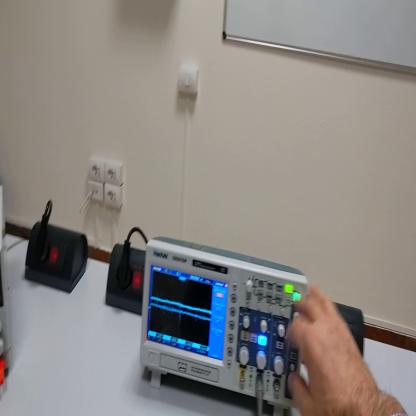hand: (286, 287, 372, 415)
oscilloscope: (142, 235, 312, 416)
power supply: (2, 178, 11, 379)
socket: (26, 217, 91, 294), (106, 245, 145, 316)
